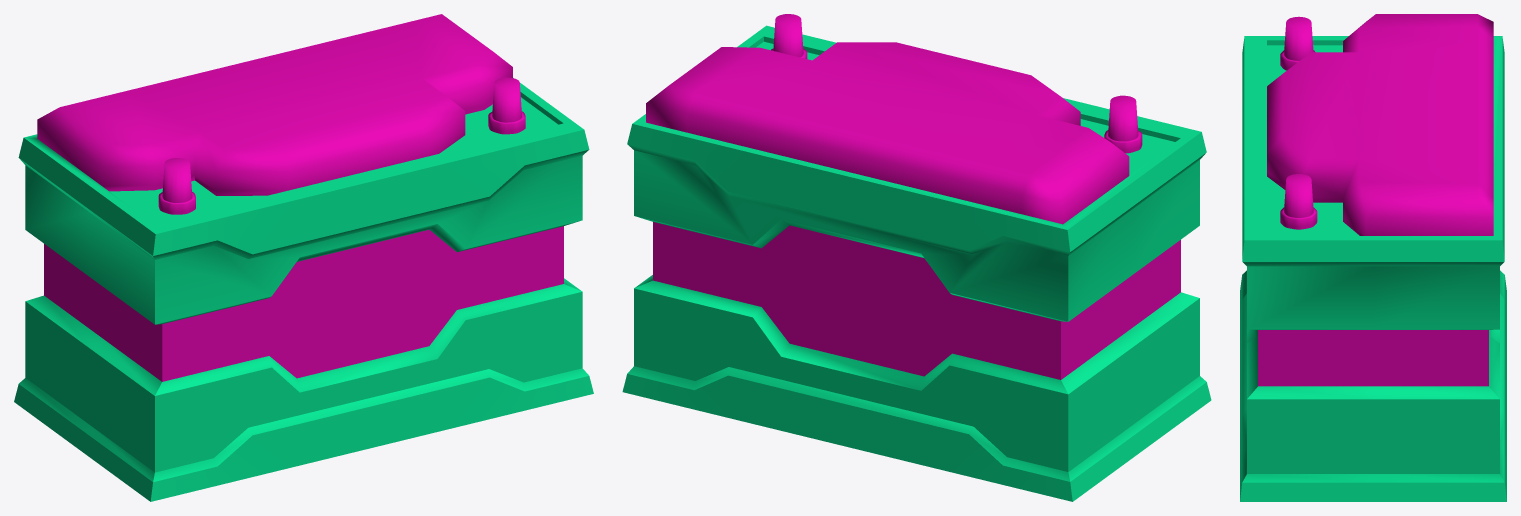
File: Car_Battery_high.fbx
3 views of the same model, side by side, from view 1: azimuth 30°, elevation 25°; view 2: azimuth 150°, elevation 25°; view 3: azimuth 270°, elevation 25° (orthographic). The views are drawn at different scales.
Visible parts, largest first — view 1: Car_Battery_high; view 2: Car_Battery_high; view 3: Car_Battery_high.
Part boxes in pixels (x1=…): Car_Battery_high: x1=14, y1=14, x2=593, y2=501; Car_Battery_high: x1=622, y1=14, x2=1211, y2=501; Car_Battery_high: x1=1240, y1=14, x2=1506, y2=501.
Size of the model in its own units: 178 by 116 by 95.07.
